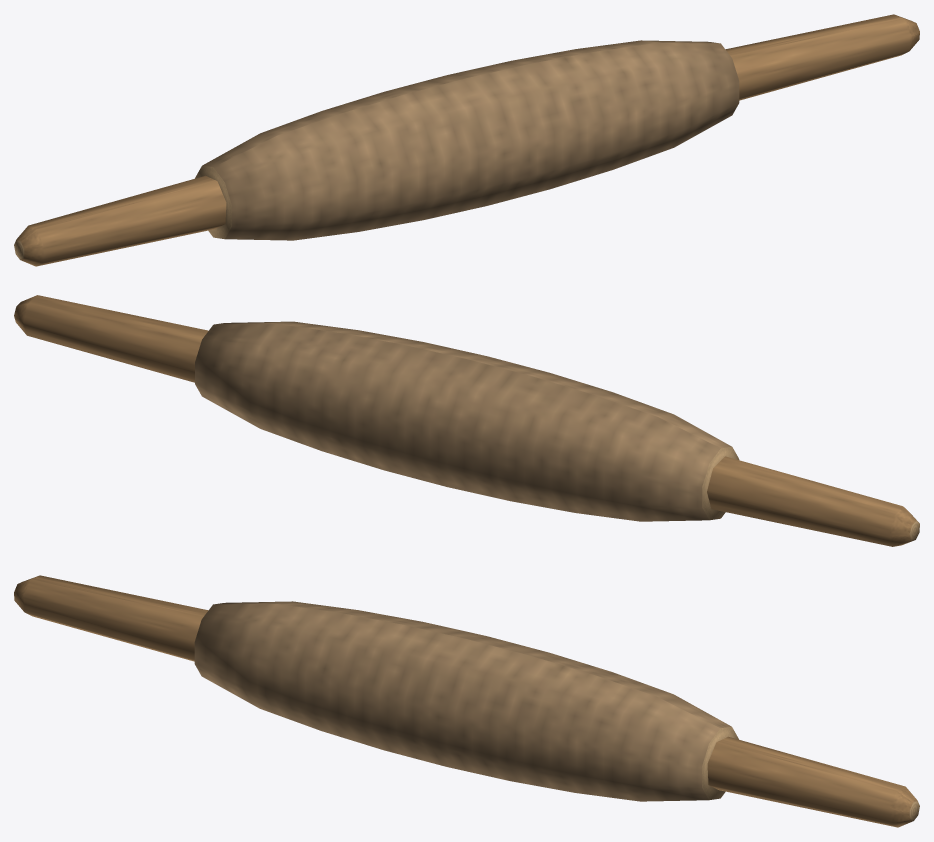
The model's file is weft_bobbin.glb.
3 renders of one model, top to bottom at view 1: azimuth 30°, elevation 25°; view 2: azimuth 150°, elevation 25°; view 3: azimuth 330°, elevation 25°, orthographic.
Parts seen in each view (by area): view 1: weft_bobbin; view 2: weft_bobbin; view 3: weft_bobbin.
Boxes of the visible parts, x1,y1,x2,y2 form: weft_bobbin: (14,14,919,266); weft_bobbin: (14,295,919,546); weft_bobbin: (14,575,919,827).
Size of the model in its own units: 0.24 by 0.032 by 0.0304.
1 material, 1 textured.
